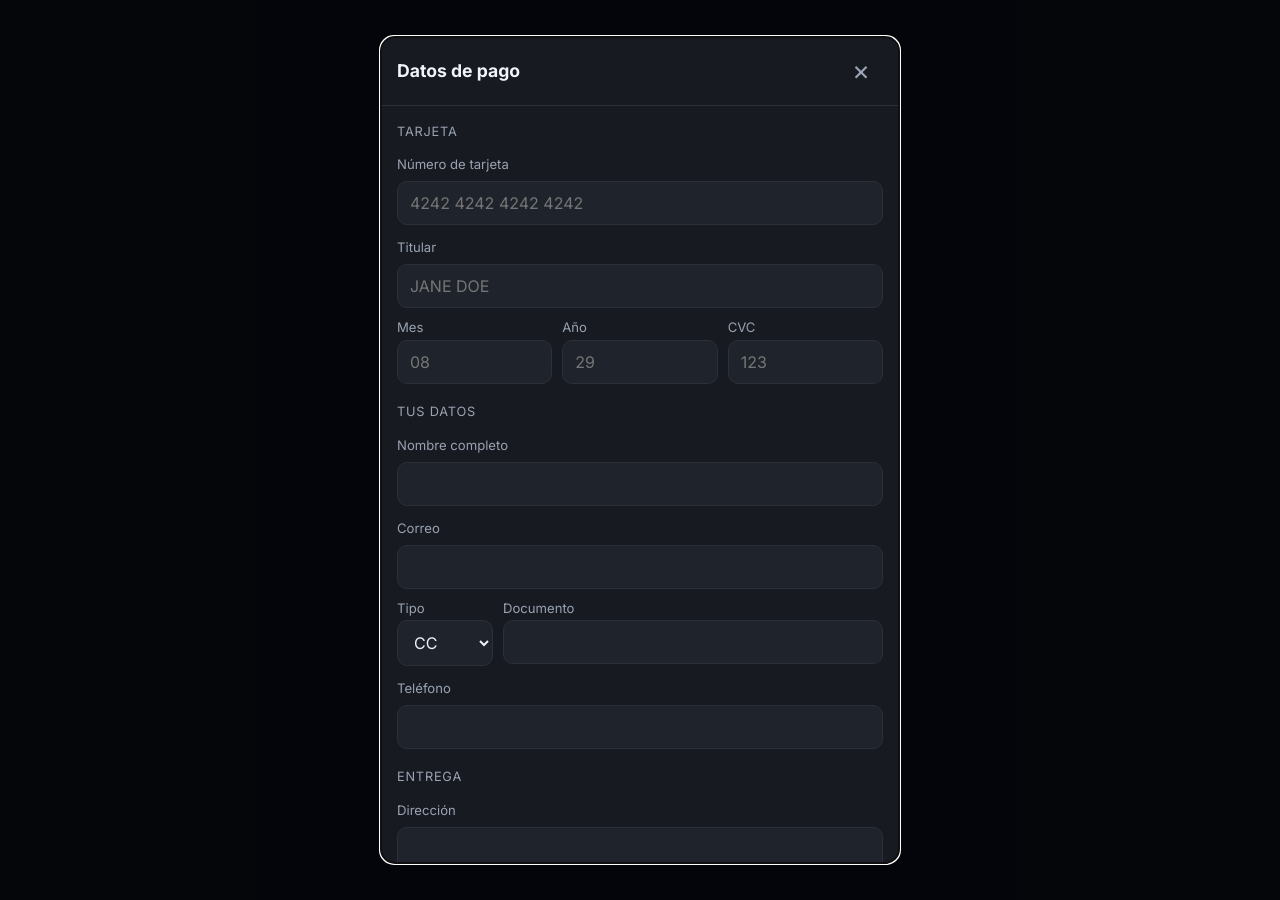
PaymentModal › shows the brand badge as the card number is typed
Type "4242424242424242" into the field labelled "Número de tarjeta" at (640, 204), box [397,182,883,226]
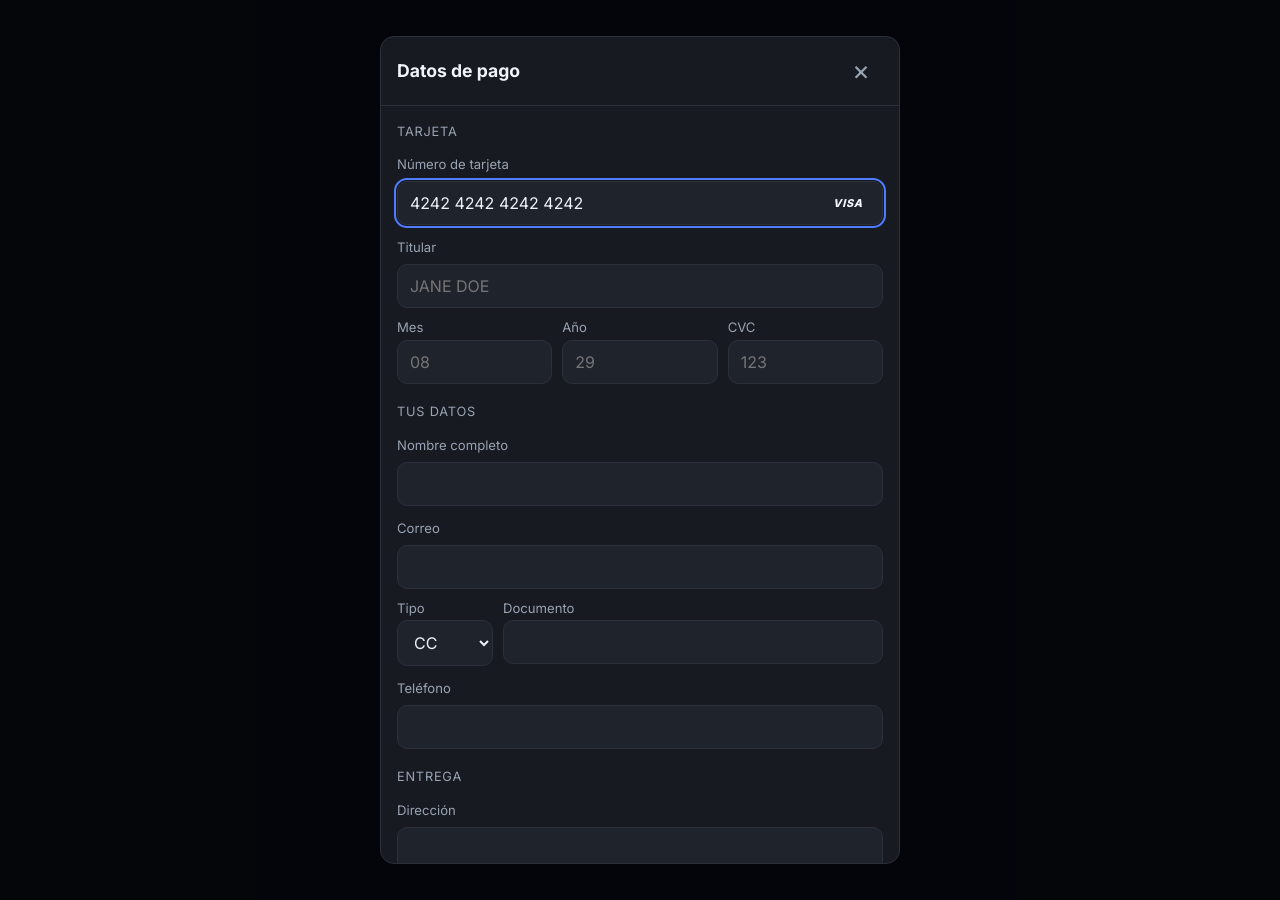
Expected: the picture labelled "VISA" is shown, [833,190,873,216]
